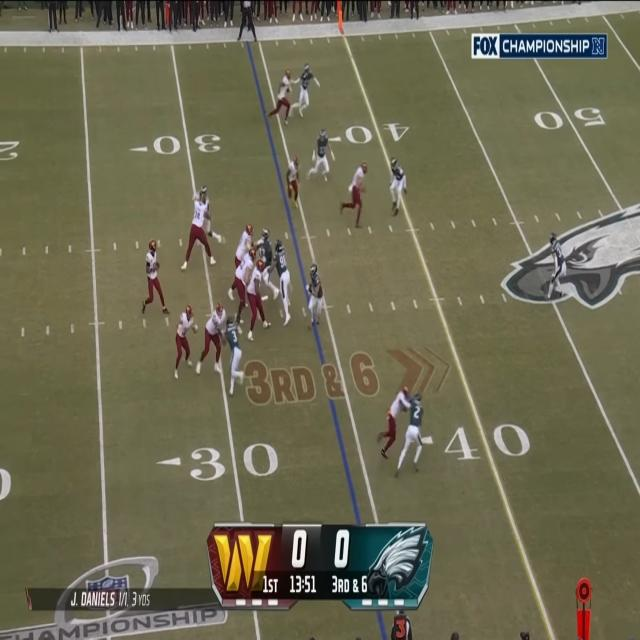Ball: (153, 261, 160, 272)
